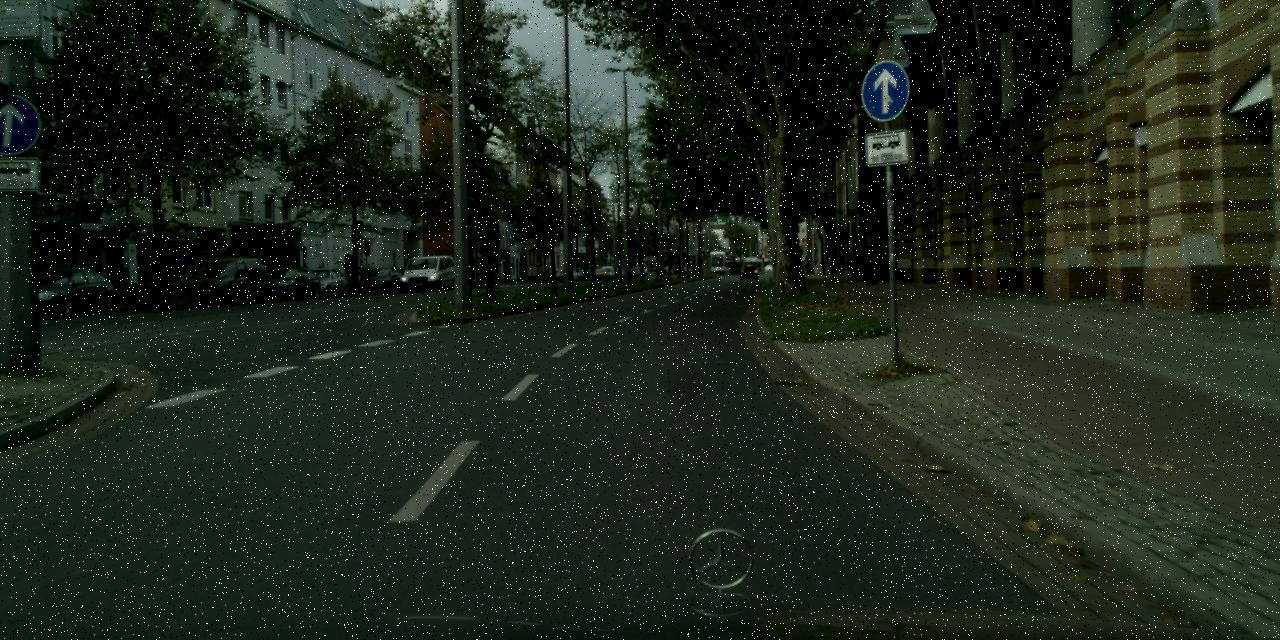ped: (868, 249, 882, 284), (860, 250, 874, 284), (846, 252, 858, 282), (829, 257, 836, 277), (820, 257, 827, 275), (838, 257, 844, 275)
